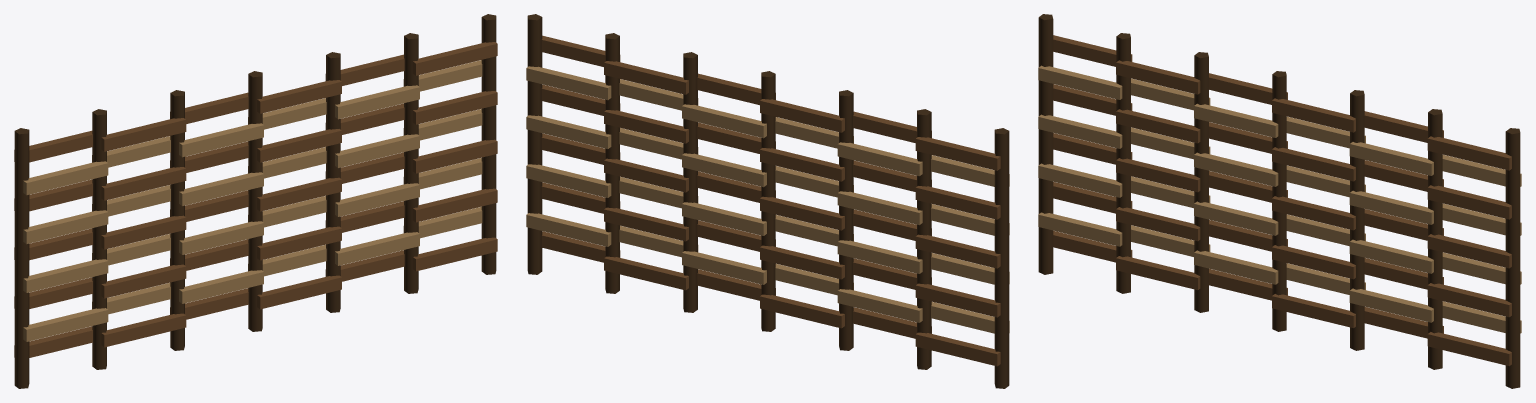
Rendered from mv_wattle_fence.glb.
3 views of the same model, side by side, from view 1: azimuth 30°, elevation 25°; view 2: azimuth 150°, elevation 25°; view 3: azimuth 330°, elevation 25° (orthographic).
Parts seen in each view (by area): view 1: mv_wattle_fence; view 2: mv_wattle_fence; view 3: mv_wattle_fence.
Part boxes in pixels (x1=…): mv_wattle_fence: x1=14, y1=14, x2=497, y2=388; mv_wattle_fence: x1=526, y1=14, x2=1009, y2=388; mv_wattle_fence: x1=1038, y1=14, x2=1521, y2=388.
Bounding box in the file's own units: 2.46 × 1.25 × 0.11.
